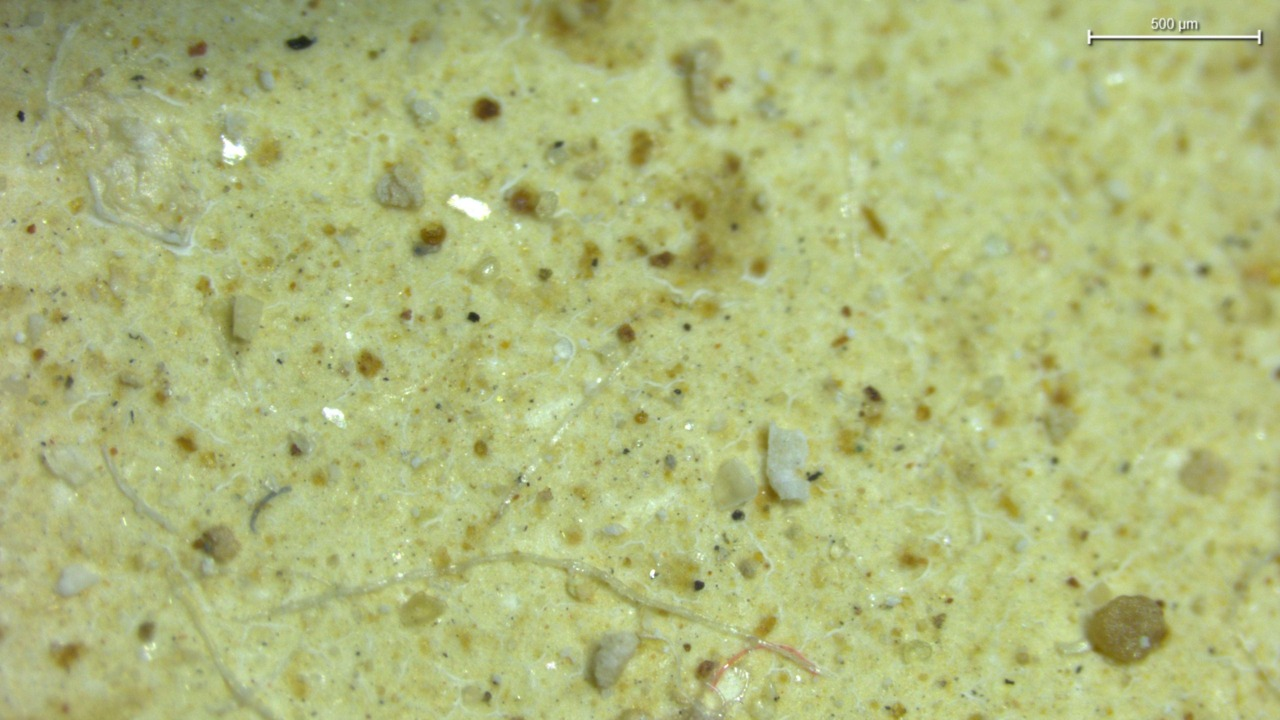microplastic_fragment: (762, 423, 817, 506), (375, 161, 423, 211), (593, 635, 634, 688), (232, 299, 261, 341)
